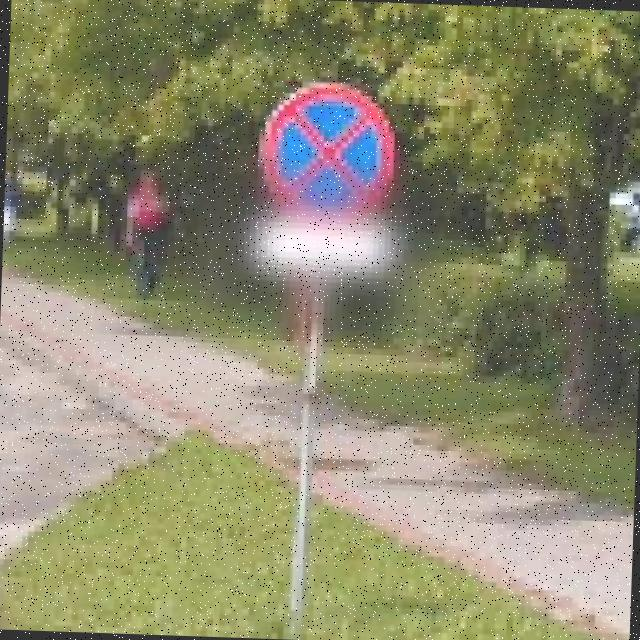Zakaz zatrzymywania sie: (252, 76, 400, 228)
